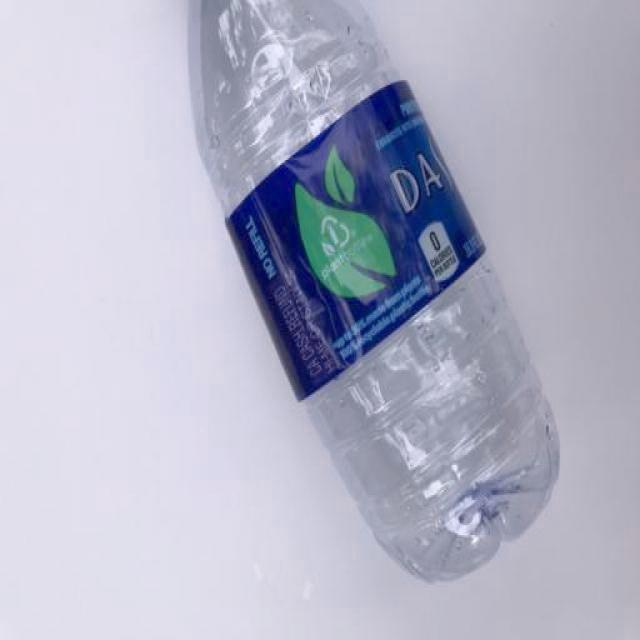bottle: (186, 0, 560, 582)
